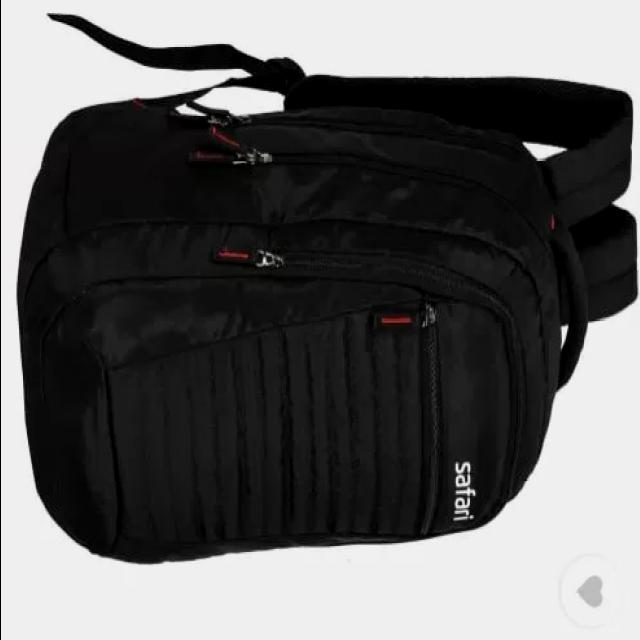backpack: (17, 12, 640, 566)
